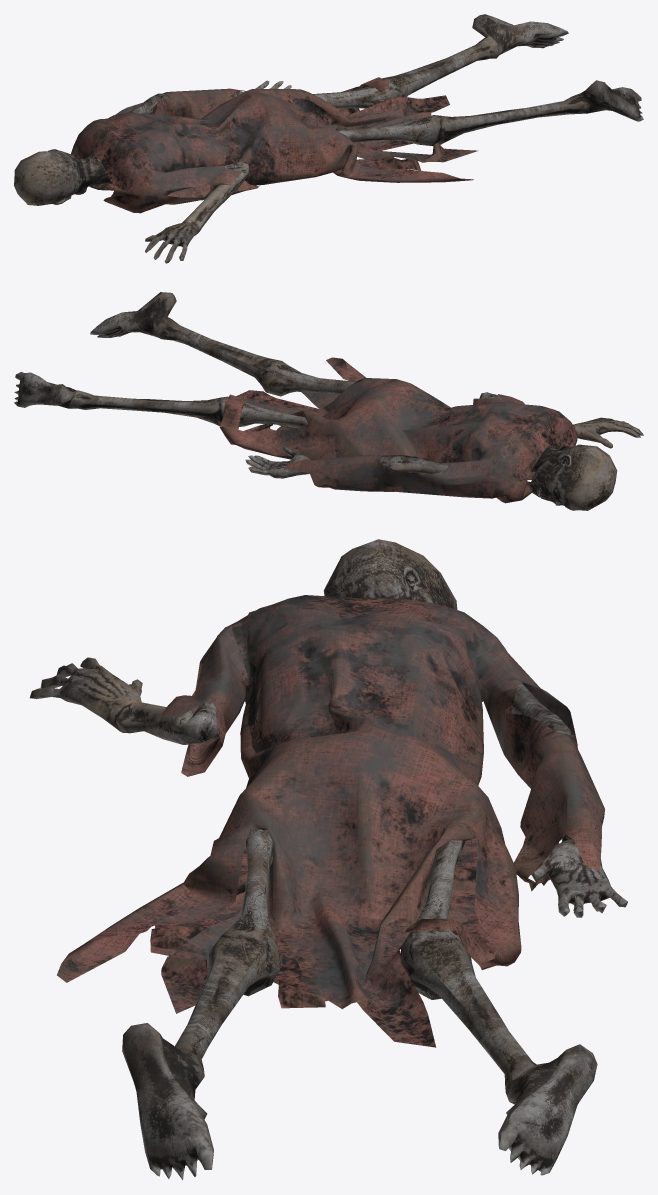
The model's file is P_Deceased01.fbx.
3 renders of one model, top to bottom at view 1: azimuth 30°, elevation 25°; view 2: azimuth 150°, elevation 25°; view 3: azimuth 270°, elevation 25°, orthographic. The views are drawn at different scales.
Parts seen in each view (by area): view 1: P_Deceased01; view 2: P_Deceased01; view 3: P_Deceased01.
Boxes of the visible parts, left/top/right/bottom form: P_Deceased01: left=14, top=14, right=643, bottom=263; P_Deceased01: left=14, top=292, right=643, bottom=510; P_Deceased01: left=30, top=539, right=627, bottom=1180.
Bounding box in the file's own units: 251 × 28.16 × 114.
